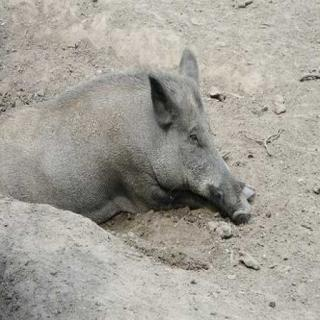Pig: (0, 59, 278, 243)
